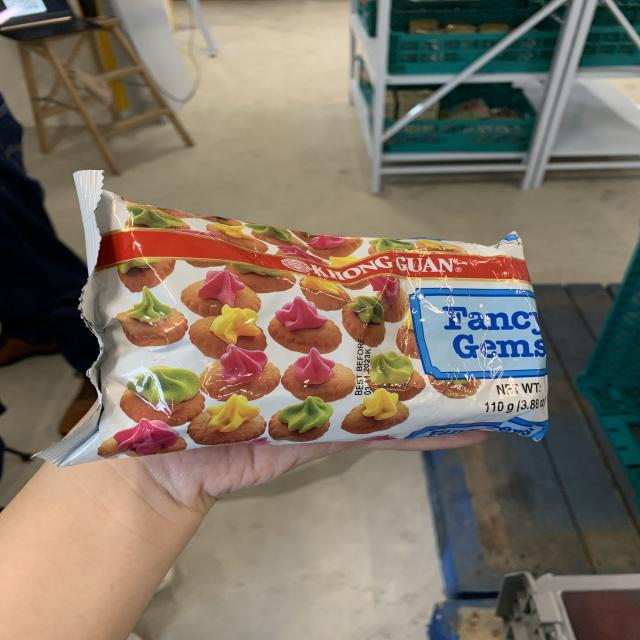object_name: (89, 200, 552, 441)
